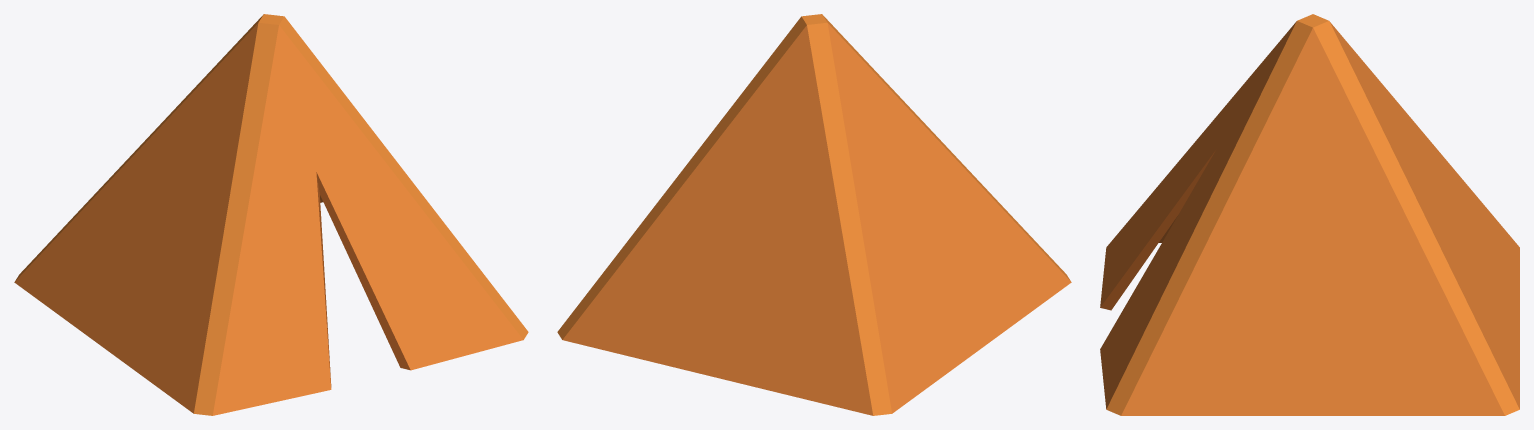
The model's file is RW_HG_Build_Tent.001.fbx.
The picture shows the model from 3 angles, left to right: view 1: azimuth 30°, elevation 25°; view 2: azimuth 150°, elevation 25°; view 3: azimuth 270°, elevation 25°; orthographic projection. The views are drawn at different scales.
Parts seen in each view (by area): view 1: WW_HG_Build_Tent.001; view 2: WW_HG_Build_Tent.001; view 3: WW_HG_Build_Tent.001.
Part boxes in pixels (x1=…): WW_HG_Build_Tent.001: x1=14, y1=14, x2=528, y2=415; WW_HG_Build_Tent.001: x1=557, y1=14, x2=1071, y2=415; WW_HG_Build_Tent.001: x1=1100, y1=14, x2=1519, y2=415.
Bounding box in the file's own units: 0.5842 × 0.4797 × 0.5929.
